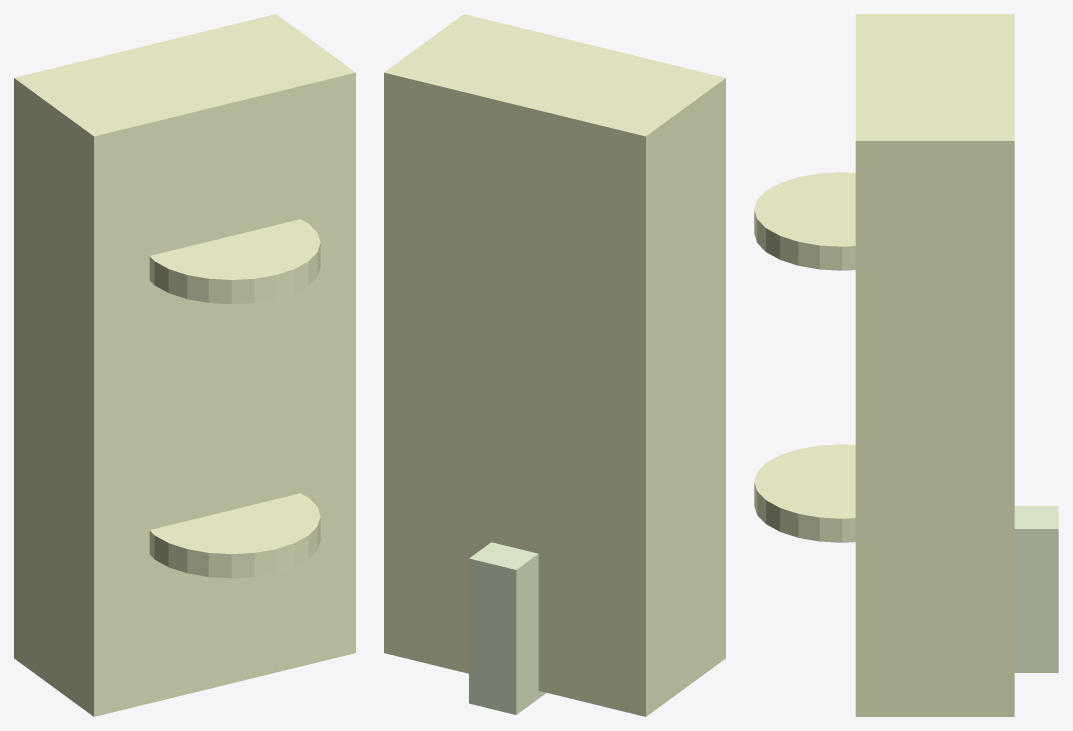
The model's file is signal_separator_arrow_left_2_aspect.glb.
3 renders of one model, left to right at view 1: azimuth 30°, elevation 25°; view 2: azimuth 150°, elevation 25°; view 3: azimuth 270°, elevation 25°, orthographic.
Visible parts, largest first — view 1: housing, lens_arrow_green, lens_arrow_yellow; view 2: housing, bracket; view 3: housing, lens_arrow_yellow, lens_arrow_green, bracket.
Boxes of the visible parts, x1=… form: housing: x1=14, y1=14, x2=355, y2=716; lens_arrow_green: x1=149, y1=493, x2=320, y2=578; lens_arrow_yellow: x1=149, y1=219, x2=320, y2=304; housing: x1=384, y1=14, x2=725, y2=716; bracket: x1=469, y1=542, x2=546, y2=714; housing: x1=855, y1=14, x2=1014, y2=716; lens_arrow_yellow: x1=754, y1=172, x2=855, y2=270; lens_arrow_green: x1=754, y1=444, x2=855, y2=542; bracket: x1=1014, y1=506, x2=1058, y2=672.
Size of the model in its own units: 0.34 by 0.73 by 0.345.
